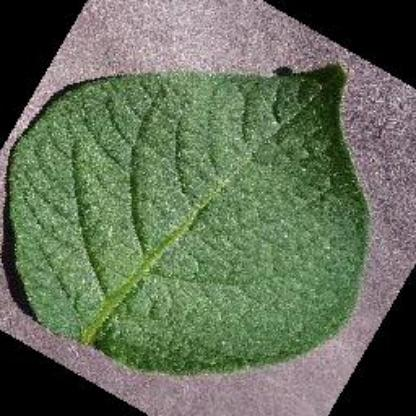Healthy-plant: (3, 47, 376, 377)
